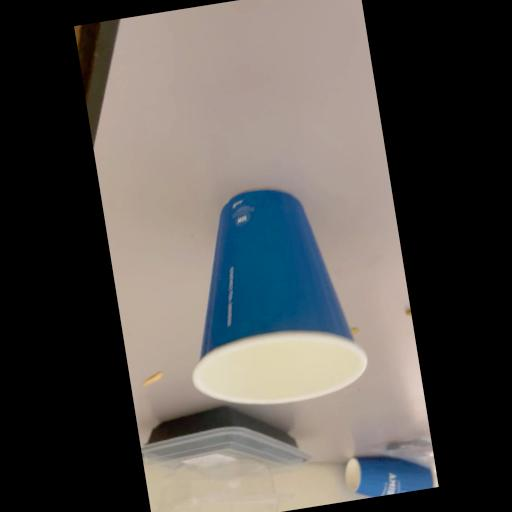lp_paper_cup: (162, 177, 374, 418)
